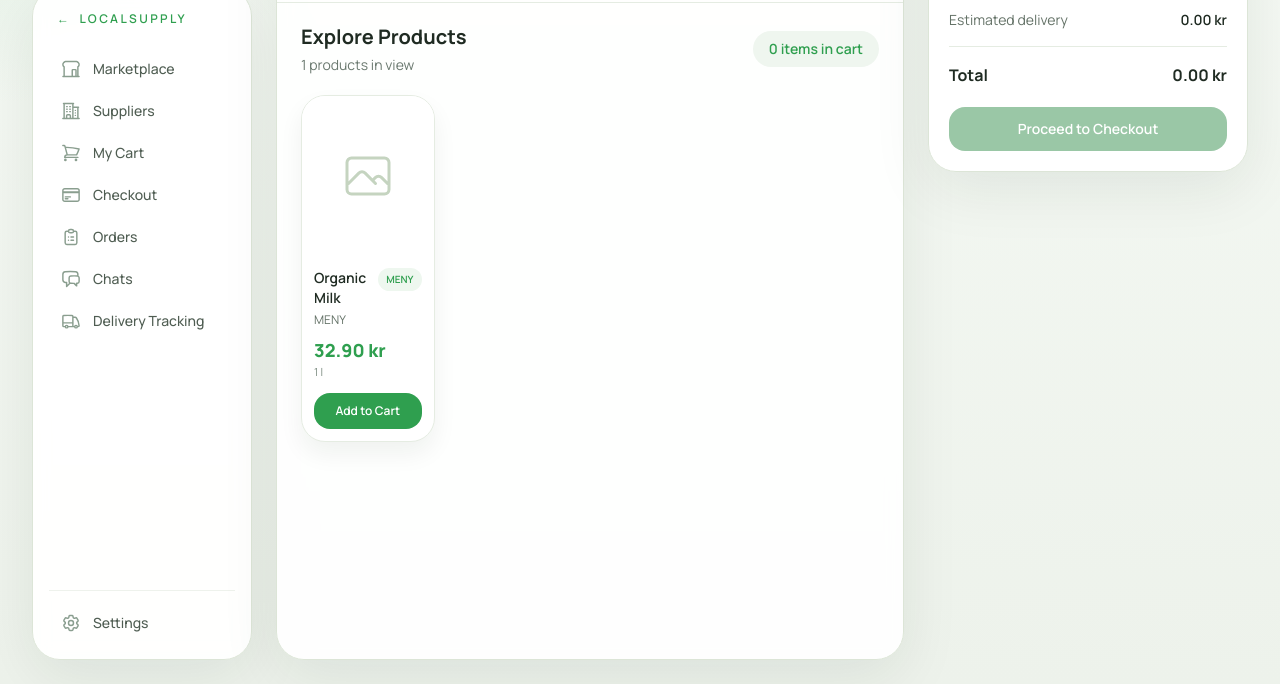
Test: MarketplaceDashboardPage › decrementing to 0 removes item and restores Add to Cart button
The width and height of the screenshot is (1280, 684).
(page scrolled)
Click the button "Add to Cart": click(368, 410) x1=314 y1=392 x2=422 y2=428
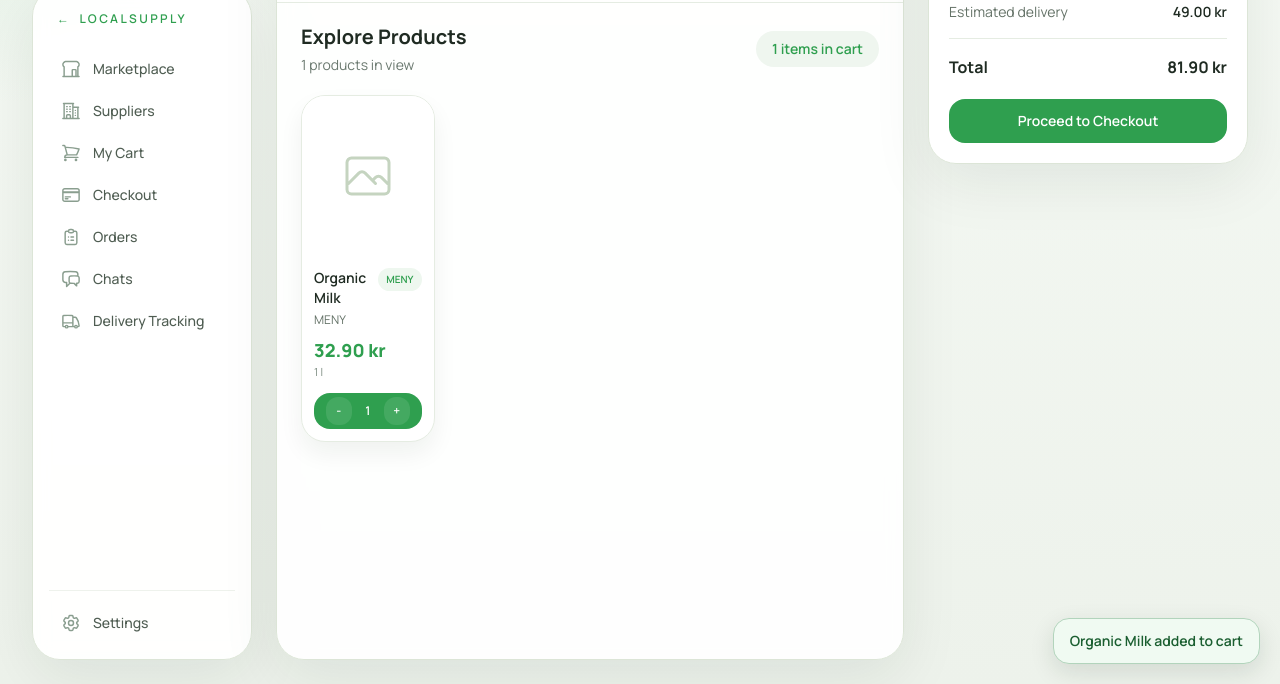
Click the button "-": click(339, 410) x1=326 y1=396 x2=352 y2=424
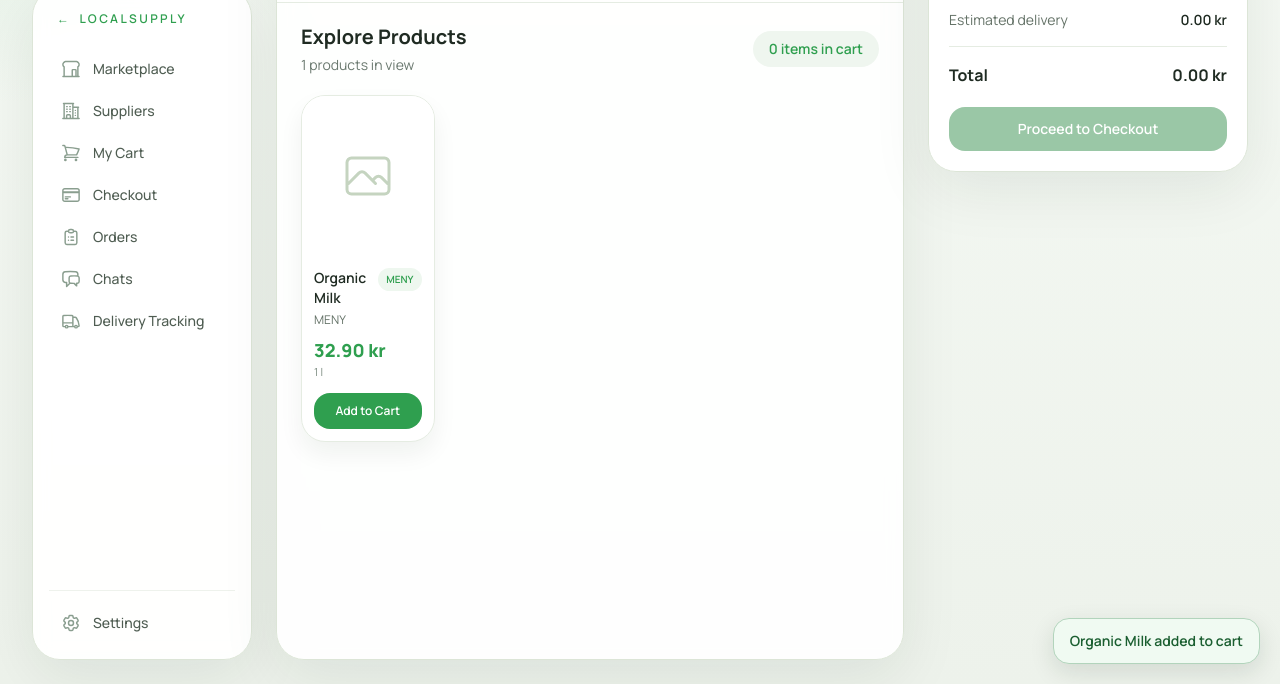
Expected: the button "Add to Cart" is shown, x1=314 y1=392 x2=422 y2=428
